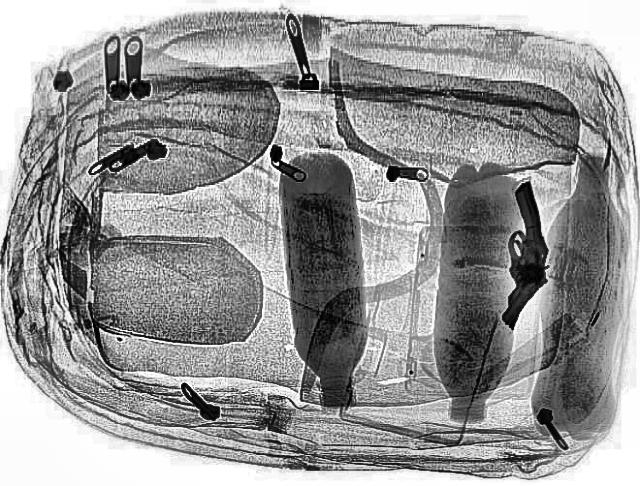Gun: (501, 180, 549, 323)
